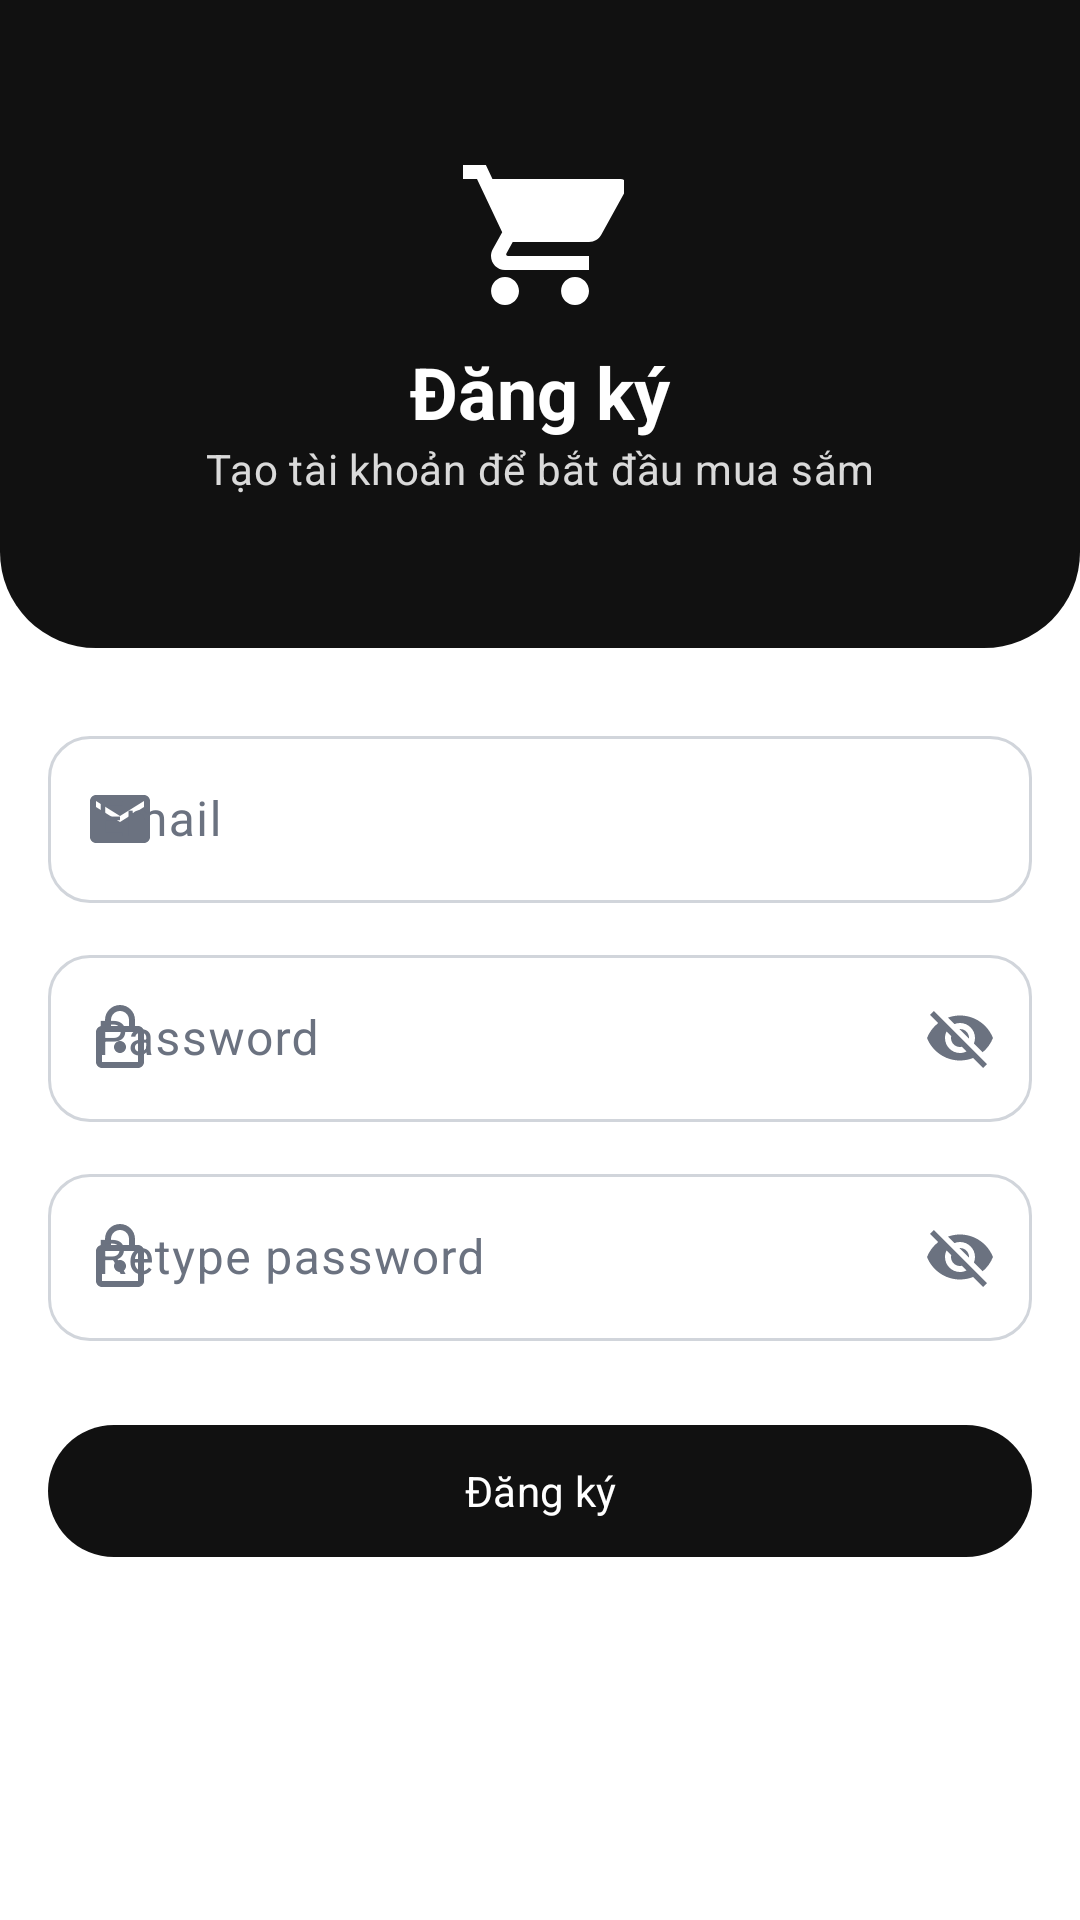

Point at icon controls on the screen. Image size 1080px x 1920px, points as (x,y).
cart: (543,235)
